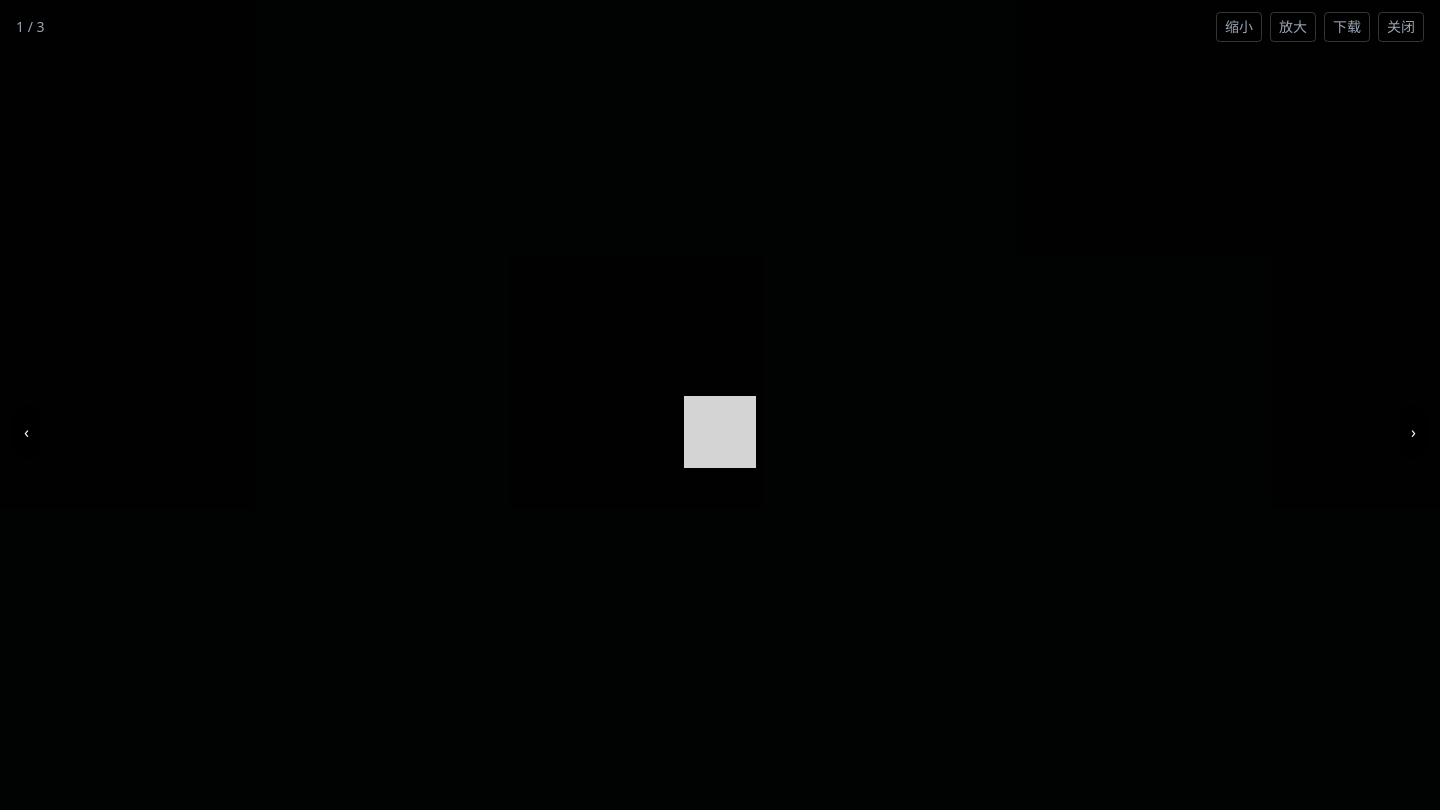
Lightbox › navigates to the next page
What coordinates should you click on to do the following:
click the button named "下一页"
I would click on:
 (1414, 432)
Its box is left=1399, top=404, right=1428, bottom=460.
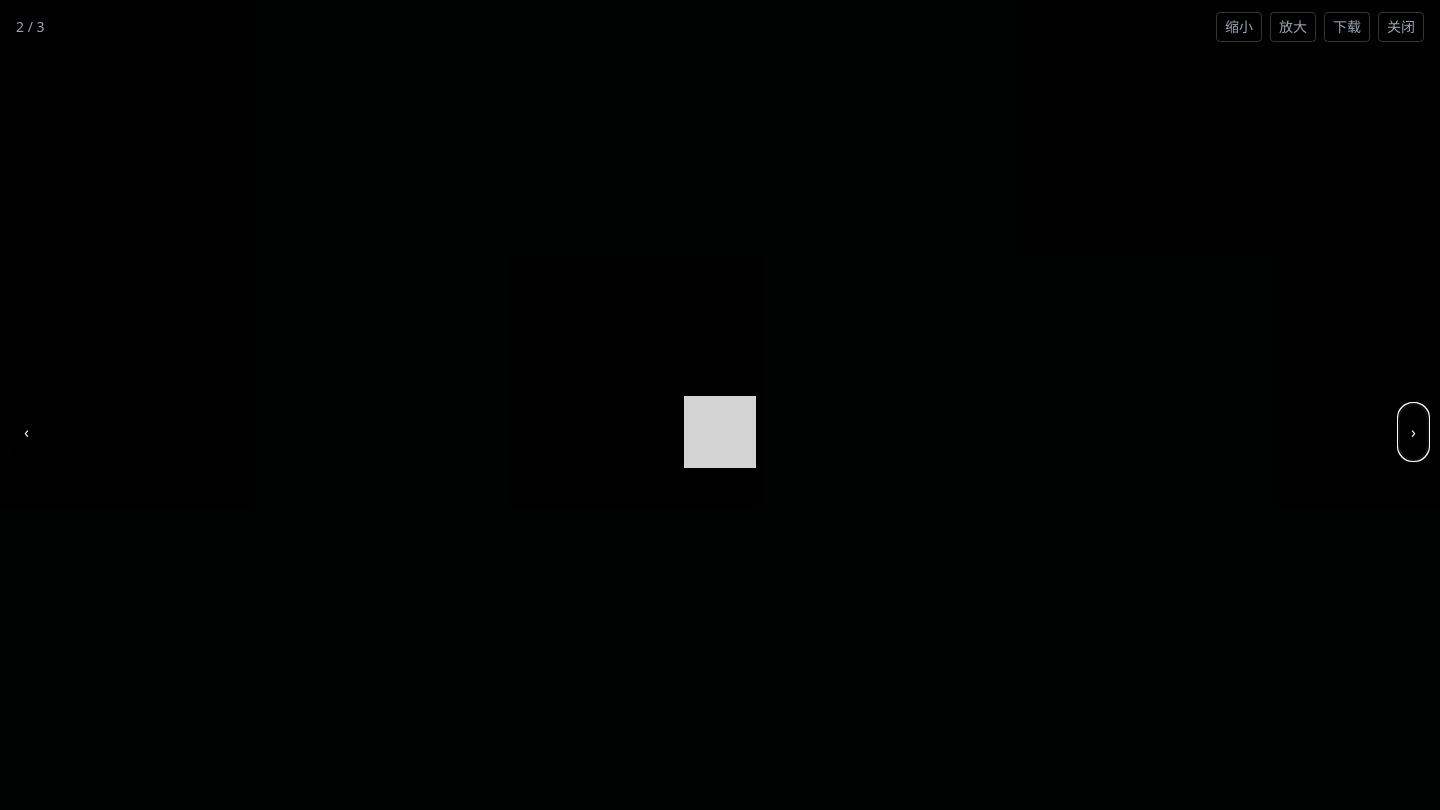
Check: the text "2 / 3" is shown, box left=16, top=17, right=44, bottom=37
